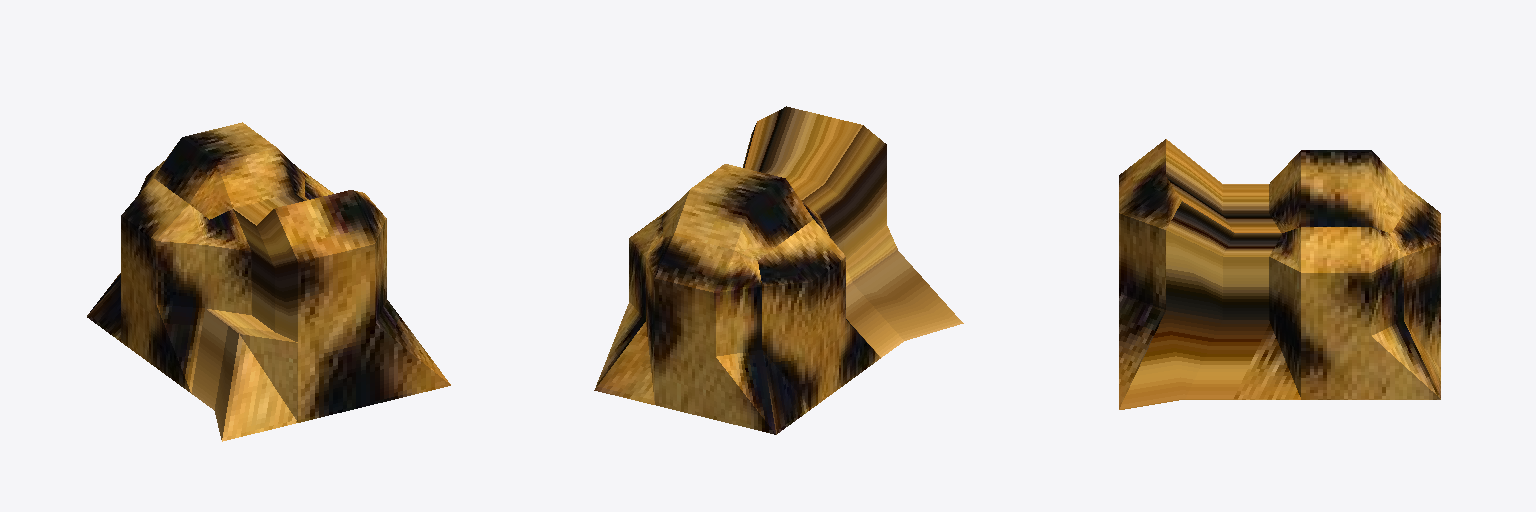
3 renders of one model, left to right at view 1: azimuth 30°, elevation 25°; view 2: azimuth 150°, elevation 25°; view 3: azimuth 270°, elevation 25°, orthographic.
Size of the model in its own units: 2.52 by 2.07 by 3.07.
1 materials, 1 textured.